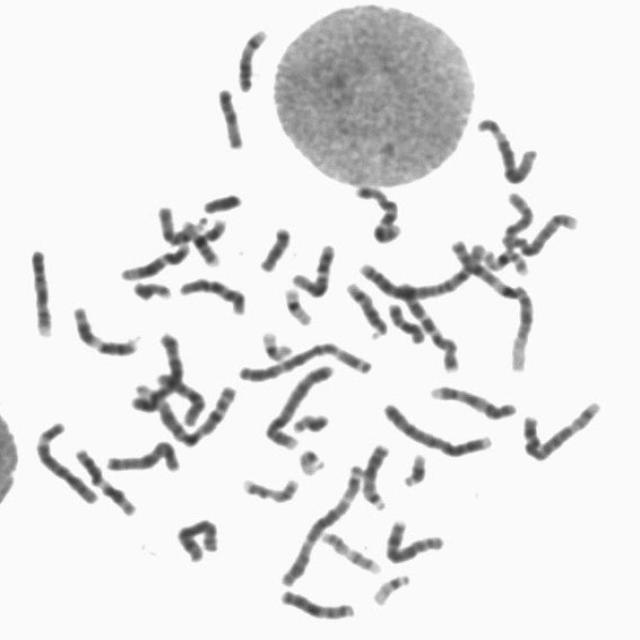A1: (444, 232, 540, 374), (129, 374, 241, 448)
A2: (353, 233, 491, 302), (498, 184, 584, 259)
A3: (276, 457, 369, 589), (233, 335, 378, 383)
B4: (378, 395, 498, 458), (259, 358, 337, 450)
B5: (518, 393, 606, 463), (126, 324, 188, 413)
C10: (174, 270, 251, 316), (152, 366, 208, 427)
C11: (69, 442, 140, 518), (66, 298, 142, 358)
C12: (116, 236, 194, 282), (286, 236, 339, 298)
C6: (29, 413, 103, 505), (472, 109, 542, 186)
C7: (394, 274, 464, 372), (349, 178, 406, 244)
C8: (380, 512, 450, 565), (171, 512, 224, 564)
C9: (425, 378, 520, 422), (23, 241, 58, 339)
D13: (274, 582, 360, 621), (357, 436, 395, 512)
D14: (340, 275, 390, 339), (233, 22, 271, 93)
D15: (154, 198, 214, 246), (212, 80, 248, 150)
E16: (181, 216, 224, 268), (477, 242, 534, 275)
E17: (316, 523, 384, 576), (237, 470, 303, 504)
E18: (382, 296, 430, 344), (255, 218, 295, 273)
F19: (278, 280, 317, 326), (256, 323, 296, 362)
F20: (128, 274, 175, 302), (290, 410, 332, 435)
G21: (397, 446, 431, 488), (198, 212, 229, 243)
G22: (367, 567, 415, 607), (294, 441, 329, 477)
X: (101, 435, 184, 474)
Y: (198, 185, 245, 215)
